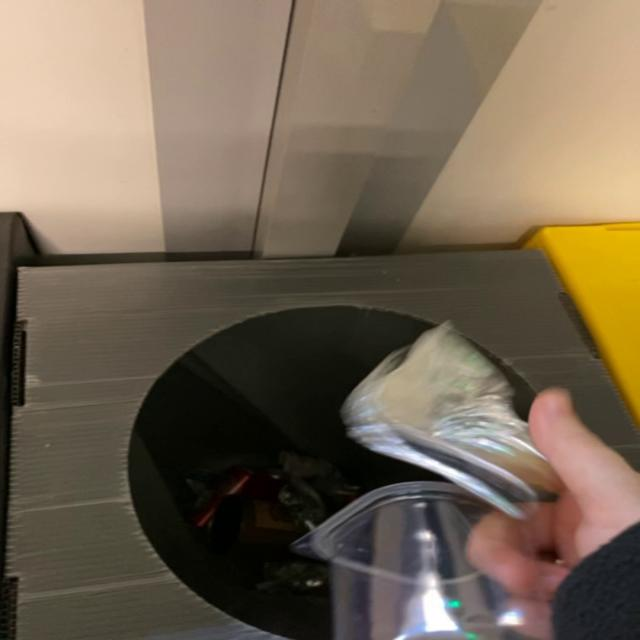bin: (5, 250, 639, 640)
metal: (342, 322, 562, 518)
